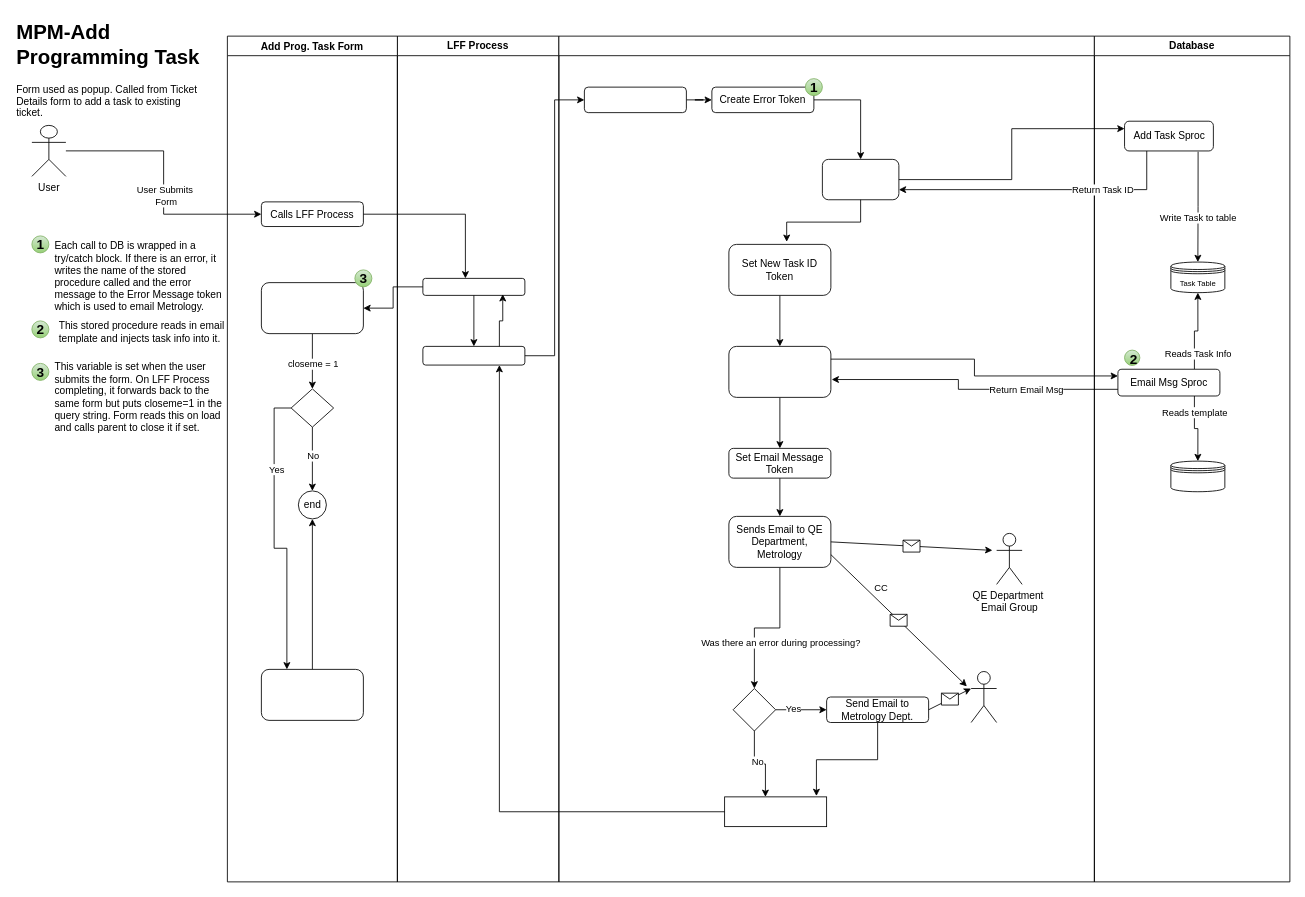
Image size: 1305x897. Some labels were removed from this diagram. The box of each missing label's shape, as (x1, y1, x2, y2) in pixels:
Call Email Msg Sproc: (728, 346, 831, 397)
Call Workflow: (422, 346, 525, 365)
Email Template Table: (1170, 460, 1225, 492)
Exec Add Task Sproc: (822, 159, 899, 200)
Metrology Dept Email Group: (970, 671, 997, 722)
On Form Load Check "closeme" variable: (261, 282, 363, 334)
Read Form Variables: (584, 86, 686, 113)
Return To LFF Process: (724, 796, 827, 827)
Send Msg to Parent form to close Add Note Form: (261, 669, 363, 720)
Start LFF Process: (422, 278, 525, 295)
Workflow: (558, 35, 1094, 882)
